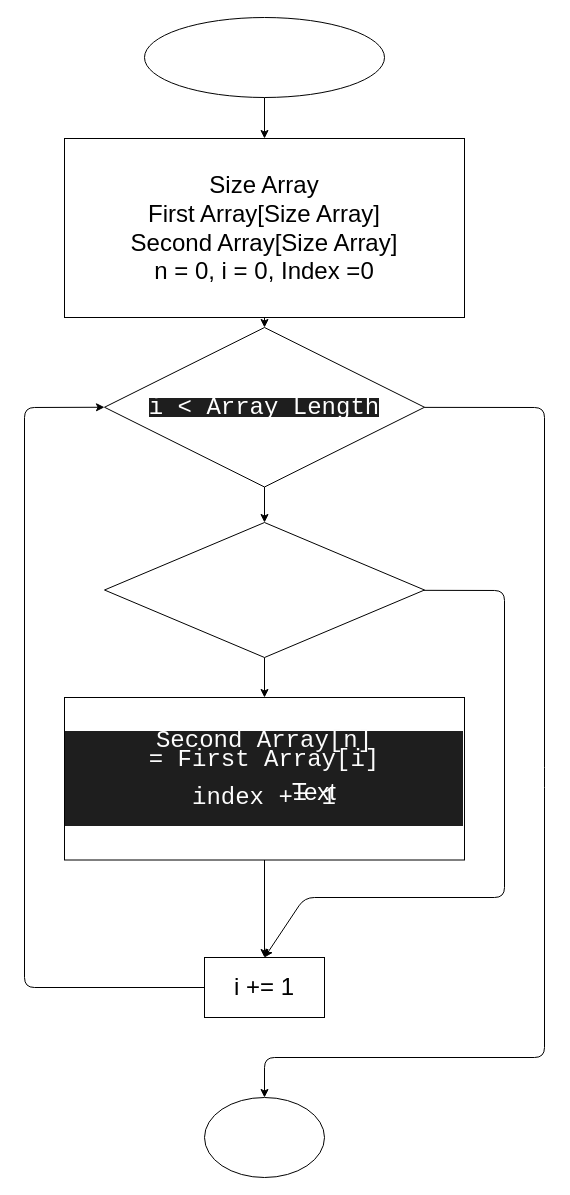
The diagram is 570 pixels wide and 1195 high, and some of its shapes have lost their labels. The centre of each missing label's shape, as x and y in pixels:
"Array [i] Length <= 3" goes at point 264,590.
"НАЧАЛО" goes at point 264,57.
